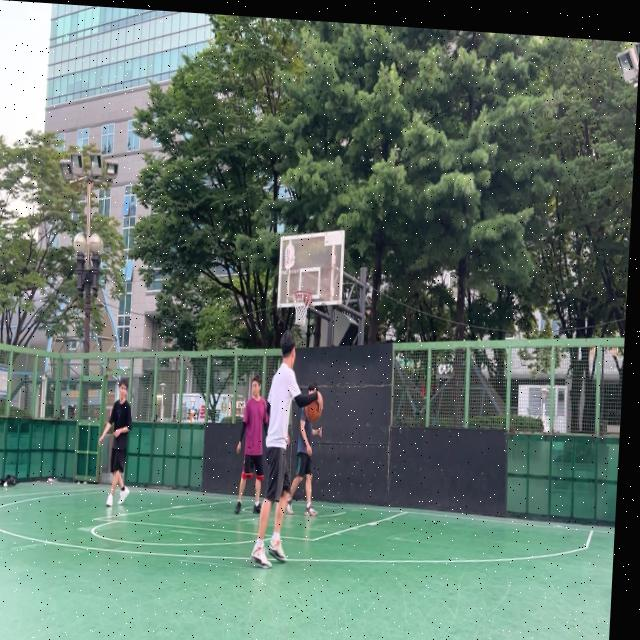basketball: (305, 393, 323, 423)
hoop: (291, 290, 312, 327)
